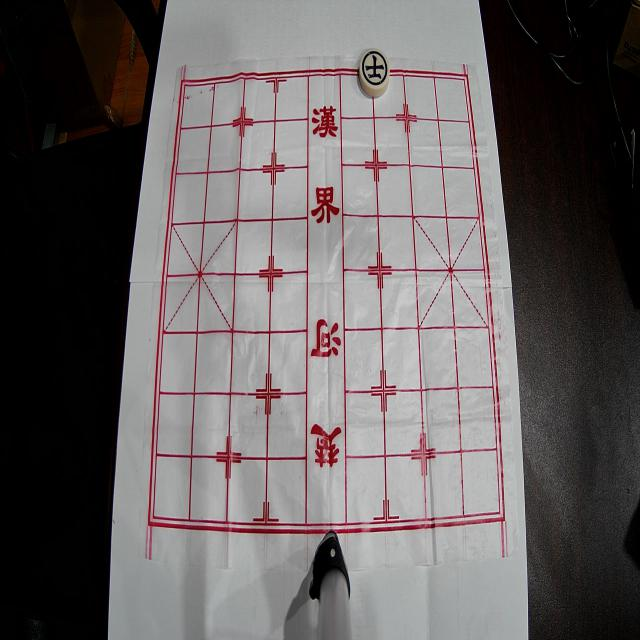black-guard: (360, 48, 390, 97)
